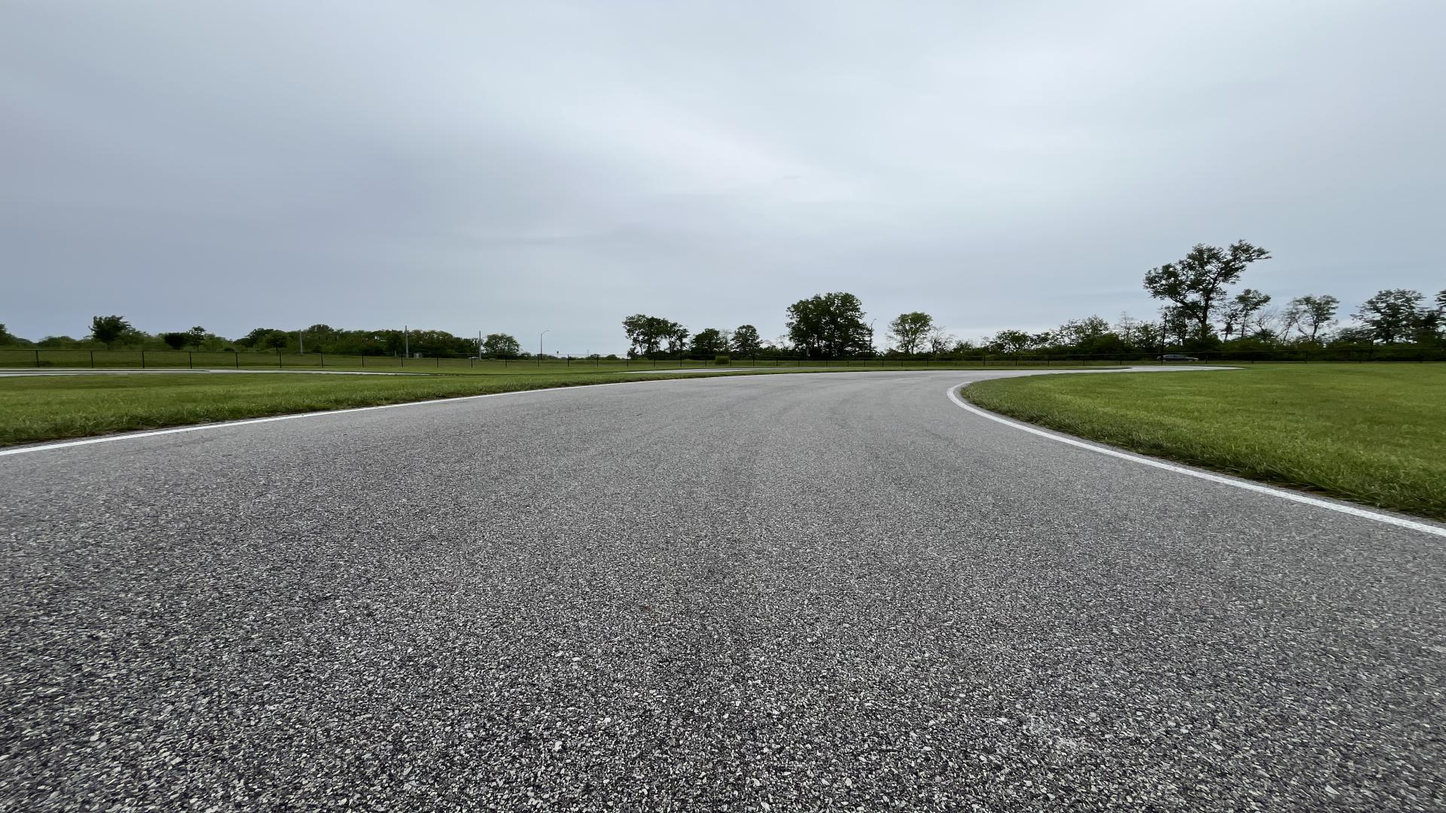white-line: (947, 382, 1445, 536), (0, 379, 687, 457)
